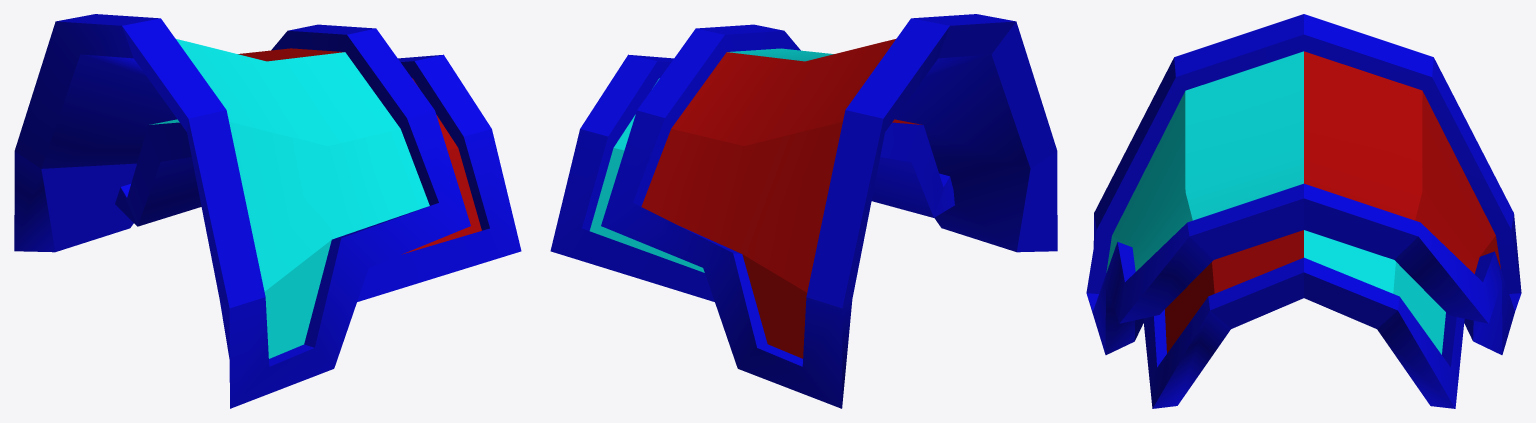
Rendered from Chr_ShoulderAttachLeft_Static_19.fbx.
3 renders of one model, left to right at view 1: azimuth 30°, elevation 25°; view 2: azimuth 150°, elevation 25°; view 3: azimuth 270°, elevation 25°, orthographic. The views are drawn at different scales.
Visible parts, largest first — view 1: Chr_ShoulderAttachLeft_19; view 2: Chr_ShoulderAttachLeft_19; view 3: Chr_ShoulderAttachLeft_19.
Boxes of the visible parts, left/top/right/bottom form: Chr_ShoulderAttachLeft_19: left=14, top=14, right=521, bottom=408; Chr_ShoulderAttachLeft_19: left=550, top=14, right=1057, bottom=408; Chr_ShoulderAttachLeft_19: left=1086, top=14, right=1521, bottom=408.
Bounding box in the file's own units: 29.55 × 26.7 × 35.41.
